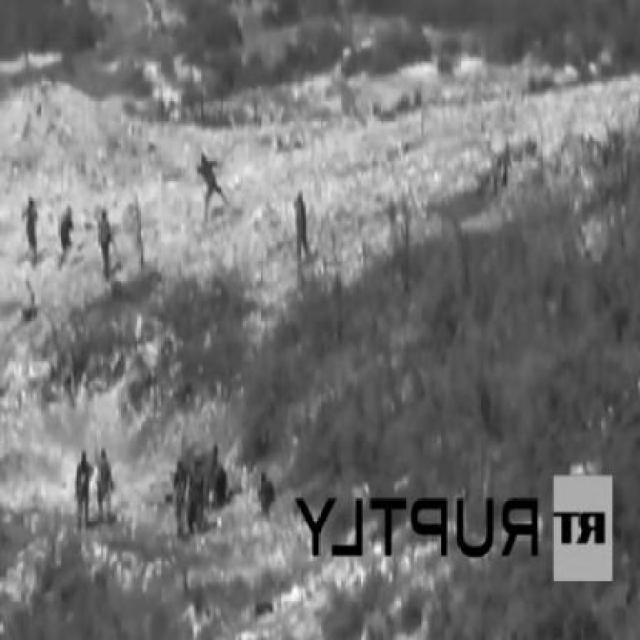Person: (196, 151, 229, 220), (57, 203, 80, 271), (76, 449, 95, 531), (99, 448, 117, 531), (294, 191, 313, 268), (191, 459, 208, 540), (99, 210, 117, 283), (174, 461, 190, 539), (25, 194, 42, 265)
